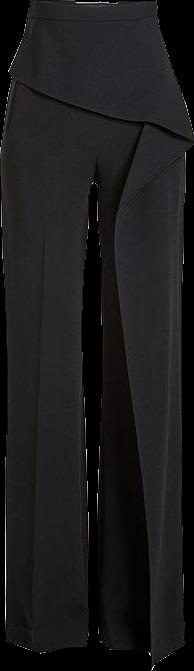Hemline: (7, 70, 189, 665), (97, 635, 188, 665)
Pantleg: (94, 2, 192, 667), (1, 0, 96, 652)
Waistline: (27, 14, 158, 26), (28, 0, 156, 8)
